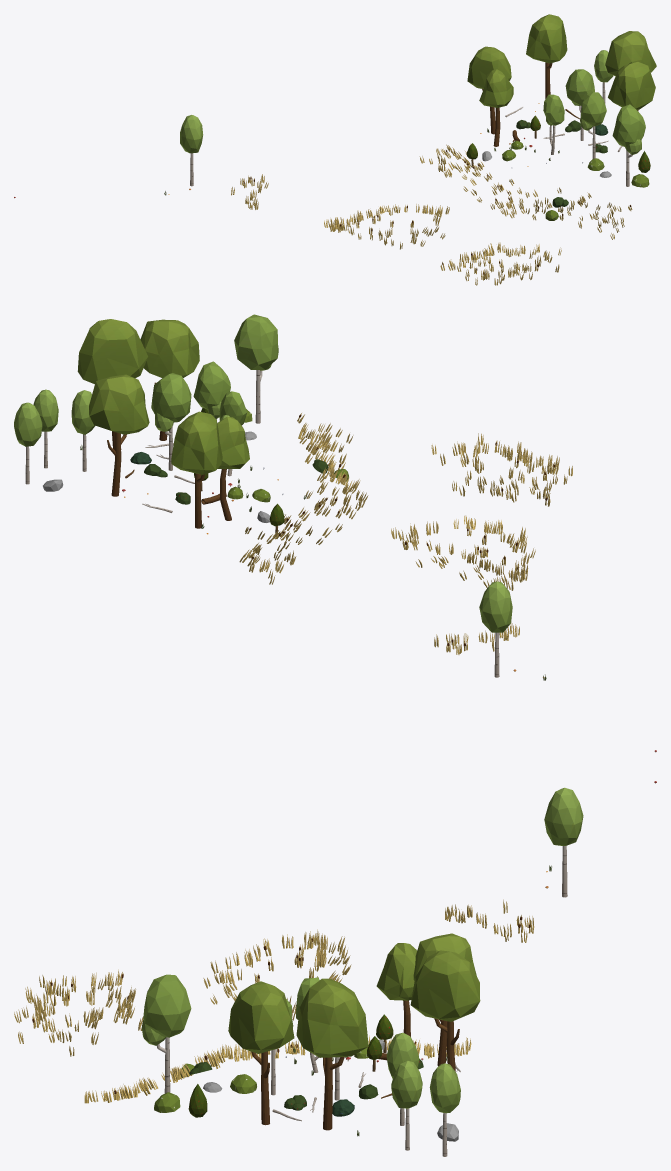
The model's file is Foliage5.gltf.
The picture shows the model from 3 angles, top to bottom: view 1: azimuth 30°, elevation 25°; view 2: azimuth 150°, elevation 25°; view 3: azimuth 270°, elevation 25°; orthographic projection. The views are drawn at different scales.
Visible parts, largest first — view 1: Beechtree3 - copy.012, Beechtree3 - copy.008, Beechtree3 - copy.006, BirchTree3 - copy.008, Beechtree3 - copy.030, Beechtree1 - copy.014, BirchTree3 - copy.012, BirchTree1 - copy.024, BirchTree3 - copy.013, BirchTree2 - copy.015, BirchTree1 - copy.012; view 2: Beechtree3 - copy.006, Beechtree3 - copy.012, Beechtree3 - copy.030, Beechtree3 - copy.008, BirchTree3 - copy.008, BirchTree3 - copy.013, Beechtree1 - copy.014, BirchTree1 - copy.024, BirchTree3 - copy.012, BirchTree1 - copy.002, BirchTree1 - copy.012, BirchTree1 - copy.023 (+1 smaller); view 3: Beechtree3 - copy.006, Beechtree3 - copy.008, Beechtree3 - copy.012, BirchTree3 - copy.008, BirchTree1 - copy.024, Beechtree1 - copy.014, Beechtree3 - copy.030, BirchTree1 - copy.002, BirchTree1 - copy.023, BirchTree1 - copy.012.
Boxes of the visible parts, x1,y1,x2,y2 form: Beechtree3 - copy.012: [526, 14, 567, 98]; Beechtree3 - copy.008: [608, 62, 655, 110]; Beechtree3 - copy.006: [605, 31, 656, 76]; BirchTree3 - copy.008: [612, 104, 645, 186]; Beechtree3 - copy.030: [467, 46, 511, 134]; Beechtree1 - copy.014: [479, 69, 513, 146]; BirchTree3 - copy.012: [580, 92, 606, 158]; BirchTree1 - copy.024: [180, 115, 203, 186]; BirchTree3 - copy.013: [565, 69, 594, 140]; BirchTree2 - copy.015: [543, 94, 564, 154]; BirchTree1 - copy.012: [594, 50, 613, 103]; Beechtree3 - copy.006: [77, 319, 148, 449]; Beechtree3 - copy.012: [89, 374, 149, 496]; Beechtree3 - copy.030: [171, 411, 222, 528]; Beechtree3 - copy.008: [140, 319, 199, 440]; BirchTree3 - copy.008: [234, 314, 278, 423]; BirchTree3 - copy.013: [151, 373, 191, 470]; Beechtree1 - copy.014: [217, 416, 249, 520]; BirchTree1 - copy.024: [479, 581, 512, 677]; BirchTree3 - copy.012: [193, 361, 230, 418]; BirchTree1 - copy.002: [14, 402, 42, 484]; BirchTree1 - copy.012: [71, 390, 95, 471]; BirchTree1 - copy.023: [33, 389, 58, 468]; Beechtree3 - copy.006: [296, 978, 368, 1130]; Beechtree3 - copy.008: [228, 981, 294, 1125]; Beechtree3 - copy.012: [410, 950, 480, 1071]; BirchTree3 - copy.008: [141, 974, 191, 1093]; BirchTree1 - copy.024: [544, 787, 583, 897]; Beechtree1 - copy.014: [376, 943, 416, 1036]; Beechtree3 - copy.030: [413, 933, 476, 1066]; BirchTree1 - copy.002: [429, 1063, 460, 1156]; BirchTree1 - copy.023: [391, 1060, 422, 1150]; BirchTree1 - copy.012: [386, 1032, 419, 1125].
Bounding box in the file's own units: 78.21 × 17.31 × 51.98.
Materials: 29 (29 with a texture image).
